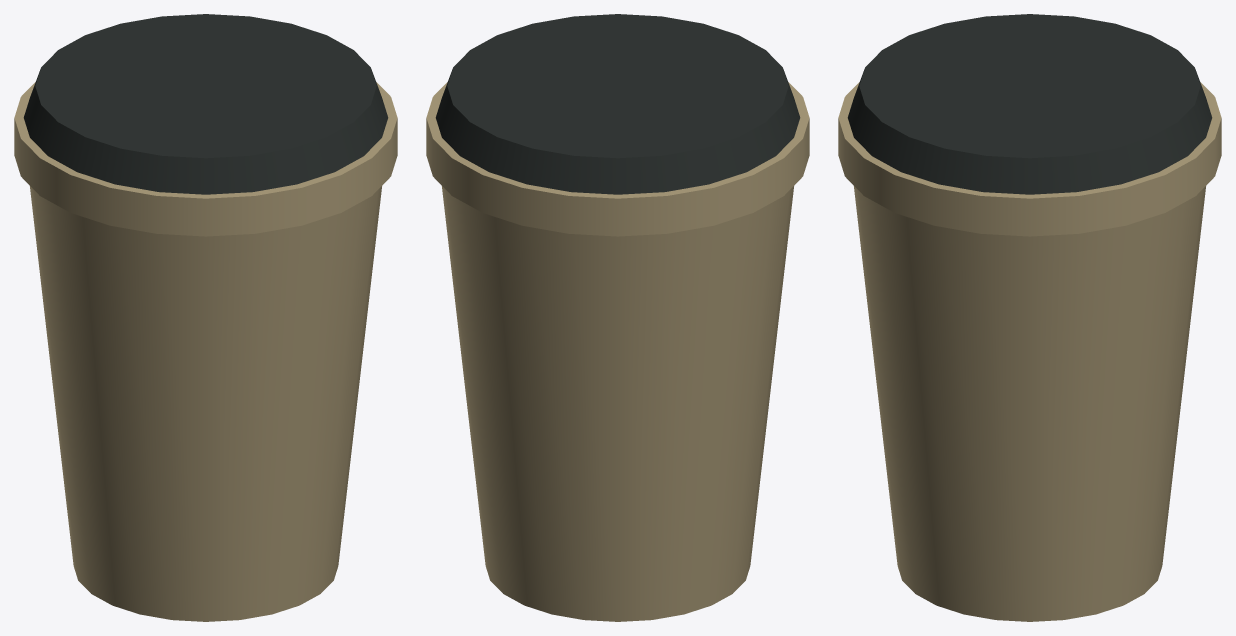
The model's file is SM_LiddedPaperCup_82b96d0685.fbx.
The picture shows the model from 3 angles, left to right: view 1: azimuth 30°, elevation 25°; view 2: azimuth 150°, elevation 25°; view 3: azimuth 270°, elevation 25°; orthographic projection.
Parts seen in each view (by area): view 1: SM_LiddedPaperCup_82b96d0685; view 2: SM_LiddedPaperCup_82b96d0685; view 3: SM_LiddedPaperCup_82b96d0685.
Boxes of the visible parts, x1,y1,x2,y2 form: SM_LiddedPaperCup_82b96d0685: (14, 14, 397, 621); SM_LiddedPaperCup_82b96d0685: (426, 14, 809, 621); SM_LiddedPaperCup_82b96d0685: (838, 14, 1221, 621).
Size of what is drawn, in the model's own units: 11 by 11 by 15.2.
